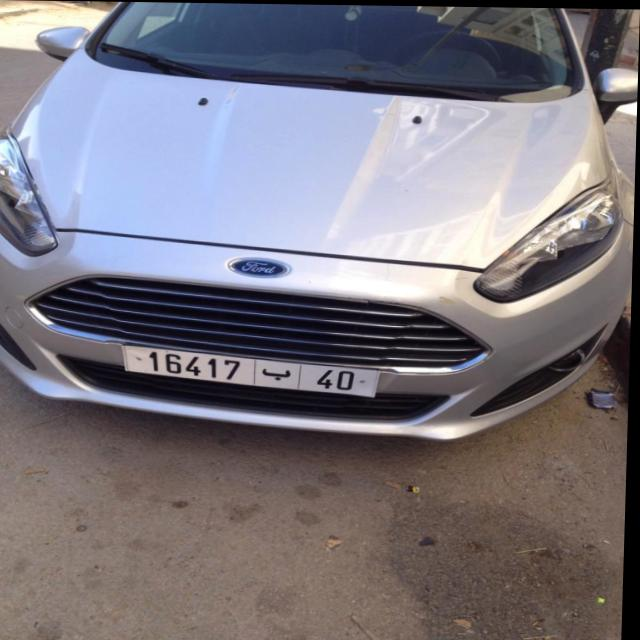License-Plate: (125, 345, 381, 396)
